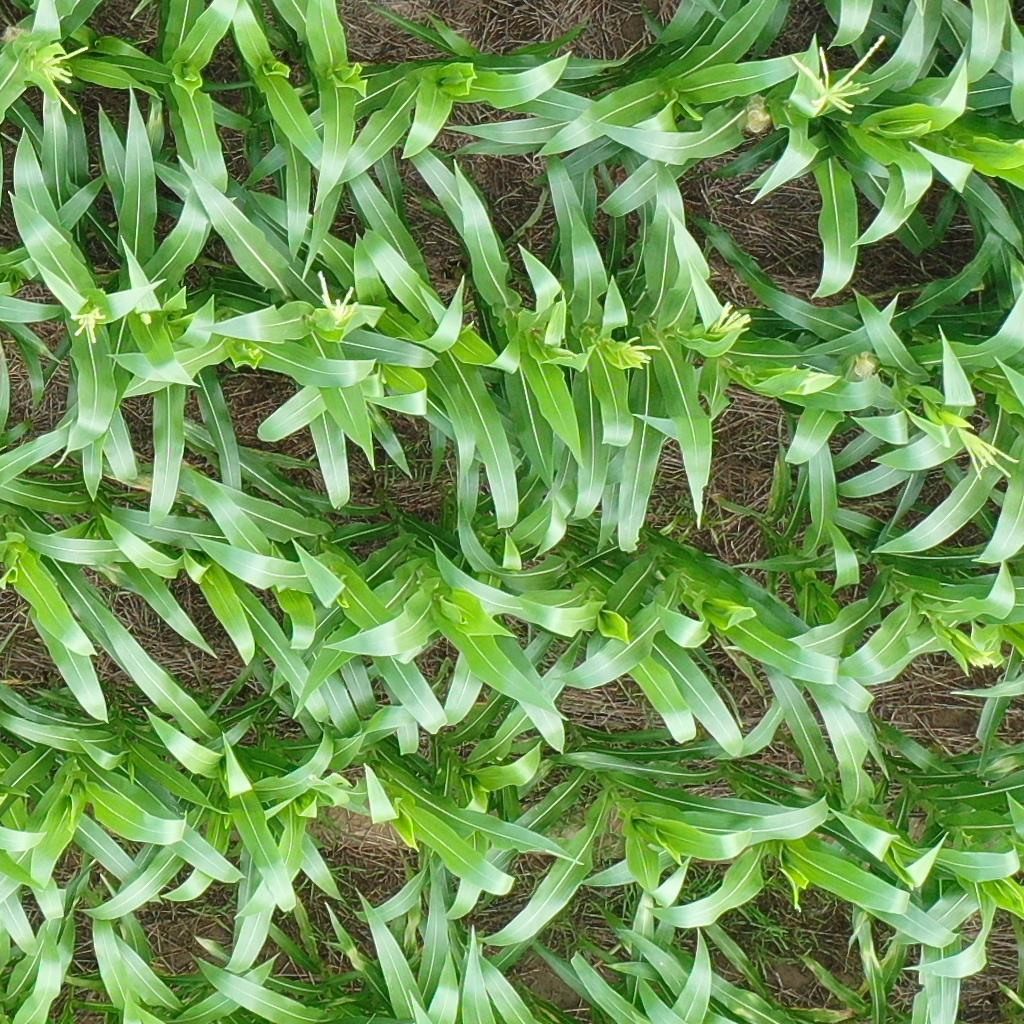Tassel: (791, 34, 886, 121), (936, 415, 1020, 483), (25, 39, 91, 114), (315, 269, 360, 326), (614, 334, 660, 370), (780, 361, 831, 393), (710, 300, 752, 336), (70, 304, 107, 341), (967, 648, 998, 673)
